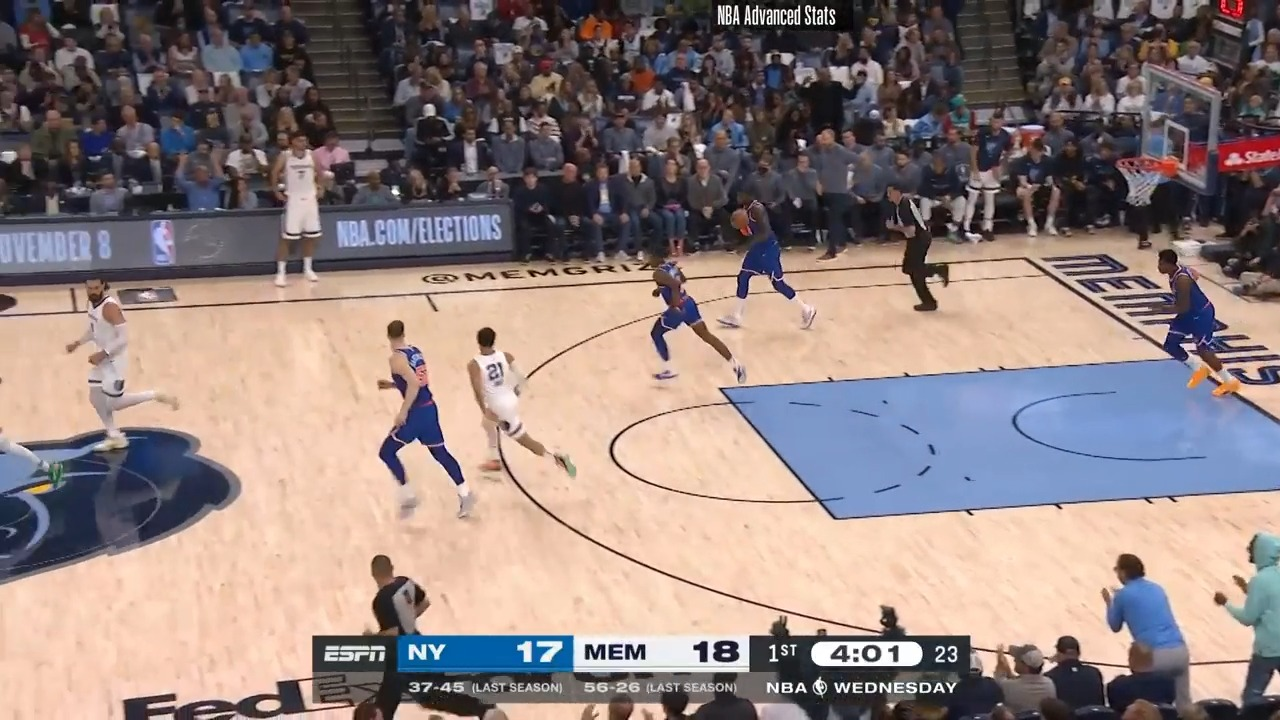net: (1116, 149, 1184, 208)
player: (373, 318, 483, 522), (64, 277, 184, 461), (462, 325, 577, 486), (644, 241, 747, 384), (715, 185, 814, 332), (1145, 245, 1233, 401), (1, 310, 56, 503), (269, 127, 330, 294)
referee: (359, 553, 445, 720), (883, 184, 949, 318)
